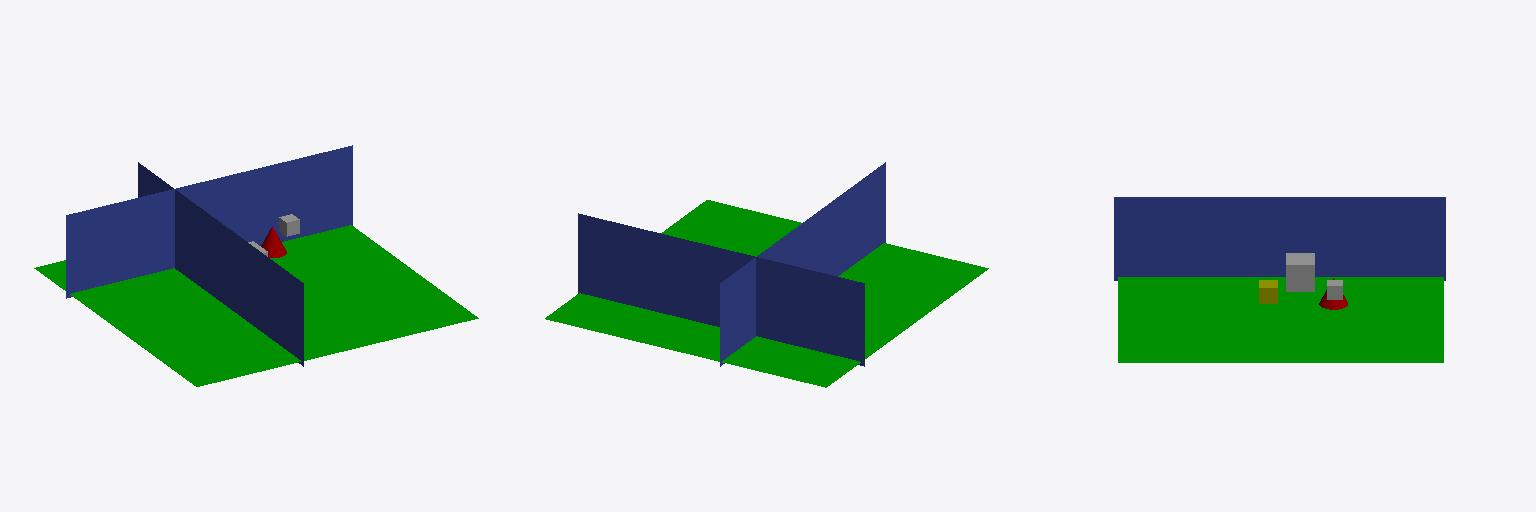
The model's file is mirror3.obj.
3 renders of one model, left to right at view 1: azimuth 30°, elevation 25°; view 2: azimuth 150°, elevation 25°; view 3: azimuth 270°, elevation 25°, orthographic.
Visible parts, largest first — view 1: Plane.001, Plane.002, Plane.003; view 2: Plane.001, Plane.002, Plane.003; view 3: Plane.001, Plane.003, Cube_Cube.001.
Boxes of the visible parts, box(x1,y1,x2,y2) form: Plane.001: box(34, 225, 478, 386); Plane.002: box(66, 145, 352, 298); Plane.003: box(138, 162, 303, 366); Plane.001: box(545, 200, 988, 387); Plane.002: box(578, 213, 864, 366); Plane.003: box(720, 162, 885, 366); Plane.001: box(1118, 277, 1443, 362); Plane.003: box(1114, 197, 1445, 280); Cube_Cube.001: box(1286, 253, 1314, 291).
Size of the model in its own units: 7.2 by 2 by 7.2.